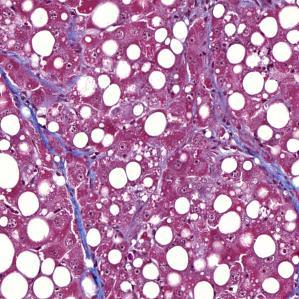fibrosis: (47, 136, 101, 258), (225, 129, 291, 190)
